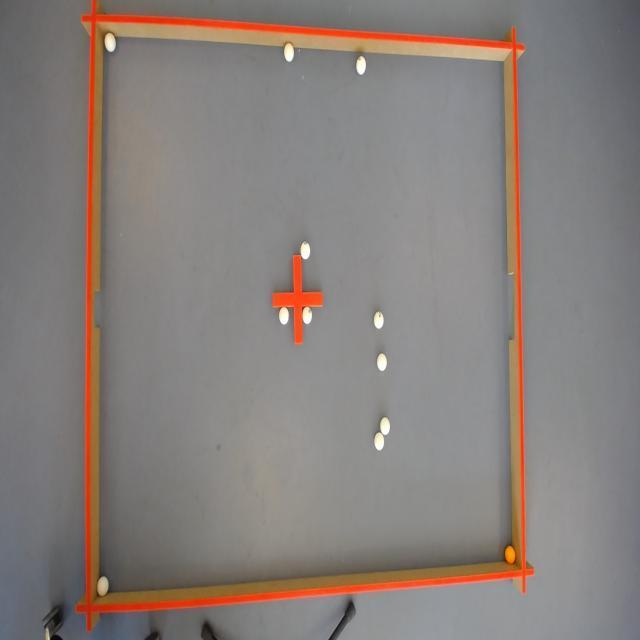orange: (504, 543, 516, 565)
white: (282, 42, 296, 64), (95, 576, 108, 596), (372, 430, 384, 450), (356, 55, 368, 75), (376, 353, 388, 372), (372, 309, 384, 328), (300, 241, 313, 258), (102, 34, 114, 51), (278, 306, 288, 324), (302, 306, 312, 324), (380, 416, 390, 432)
